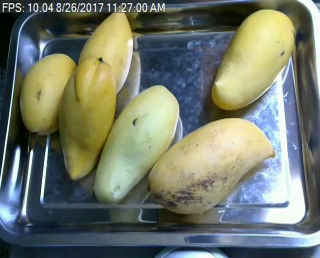Mango: (149, 117, 277, 210), (92, 84, 178, 204), (212, 5, 295, 112), (58, 56, 117, 182), (78, 5, 133, 96), (18, 52, 77, 135)
